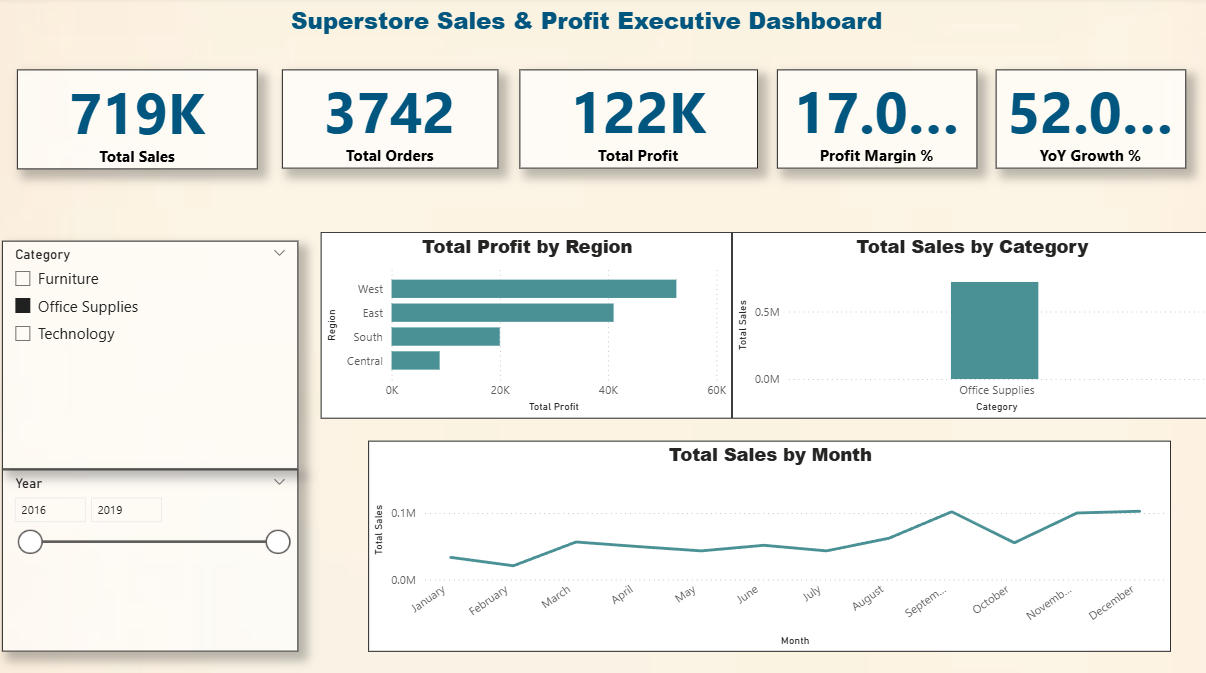

The page's visual inventory and layout, read from the dashboard file:
{"tool":"powerbi","page":{"name":"Executive Dashboard","canvas":[1280,720],"ordinal":0},"visuals":[{"type":"card","fields":{"Values":["Orders.Total Sales"]},"box":[25.7,75.7,252.9,105],"z":0},{"type":"card","fields":{"Values":["Orders.Total Profit"]},"box":[554.3,75.7,250,104.3],"z":1000},{"type":"card","fields":{"Values":["Orders.Profit Margin %"]},"box":[824.3,75.7,210,104.3],"z":2000},{"type":"card","fields":{"Values":["Orders.Total Orders"]},"box":[304.3,75.7,227.1,104.3],"z":3000},{"type":"card","fields":{"Values":["Orders.YoY Growth %"]},"box":[1054.3,75.7,200,104.3],"z":4000},{"type":"lineChart","fields":{"Category":["Date.Year Hierarchy.Month"],"Y":["Orders.Total Sales"]},"box":[395.2,466.1,843,221.9],"z":5000},{"type":"clusteredColumnChart","fields":{"Category":["Orders.Category"],"Y":["Orders.Total Sales"]},"box":[777.4,246.9,502.9,195.7],"z":6000},{"type":"clusteredBarChart","fields":{"Category":["Orders.Region"],"Y":["Orders.Total Profit"]},"box":[345.3,246.9,432,195.7],"z":7000},{"type":"slicer","fields":{"Values":["Date.Year Hierarchy.Year"]},"box":[10,495.7,311.4,191.4],"z":8000},{"type":"slicer","fields":{"Values":["Orders.Category"]},"box":[10,255.7,311.4,240],"z":9000},{"type":"textbox","title":"Superstore Sales & Profit Executive Dashboard","box":[215.7,0,818.6,45.7],"z":10000}]}

Visuals, with their boxes in screenshot pixels (x1, y1, x2, y2), scaled from the page's 1280x720 canvas onto the 1206x673 screenshot:
card - Orders.Total Sales: BBox(24, 71, 262, 169)
card - Orders.Total Profit: BBox(522, 71, 758, 168)
card - Orders.Profit Margin %: BBox(777, 71, 975, 168)
card - Orders.Total Orders: BBox(287, 71, 501, 168)
card - Orders.YoY Growth %: BBox(993, 71, 1182, 168)
lineChart - Date.Year Hierarchy.Month x Orders.Total Sales: BBox(372, 436, 1167, 643)
clusteredColumnChart - Orders.Category x Orders.Total Sales: BBox(732, 231, 1205, 414)
clusteredBarChart - Orders.Region x Orders.Total Profit: BBox(325, 231, 732, 414)
slicer - Date.Year Hierarchy.Year: BBox(9, 463, 303, 642)
slicer - Orders.Category: BBox(9, 239, 303, 463)
"Superstore Sales & Profit Executive Dashboard" textbox: BBox(203, 0, 975, 43)
